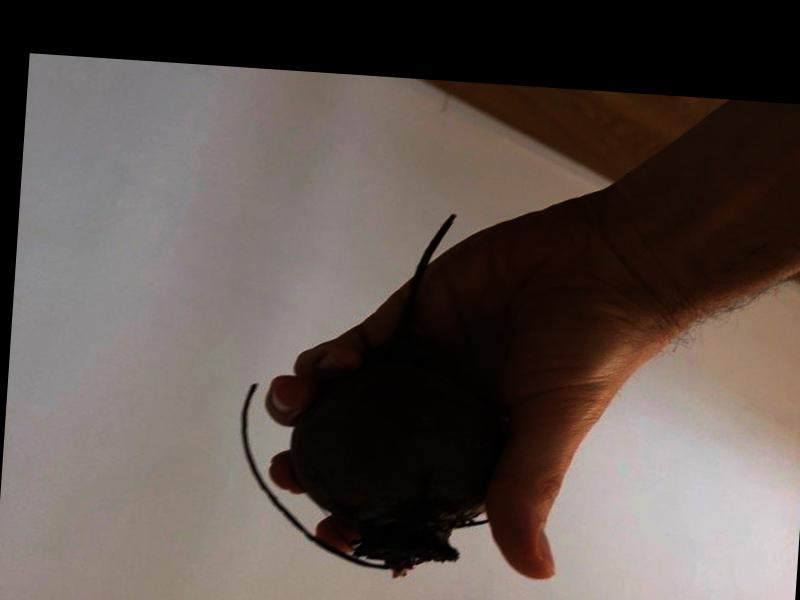Beet: (229, 201, 511, 581)
